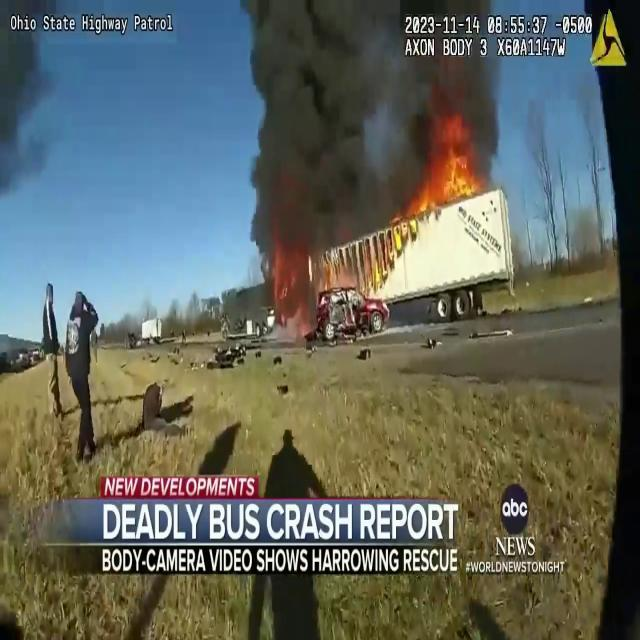Fire: (424, 112, 484, 208)
Smoke: (240, 0, 505, 181), (245, 0, 386, 302), (0, 7, 56, 245)
